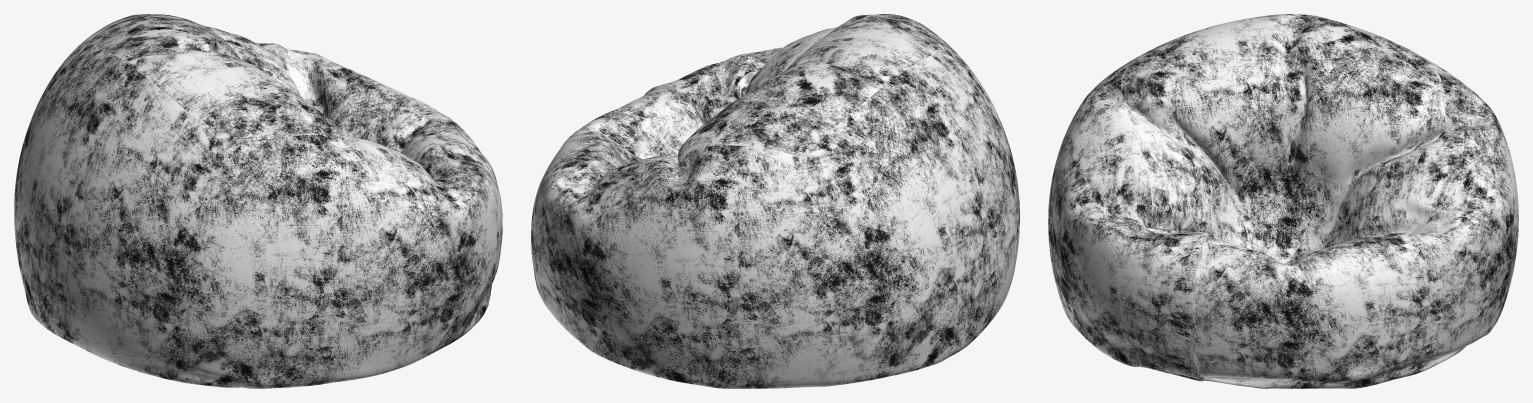
File: puff.glb
3 renders of one model, left to right at view 1: azimuth 30°, elevation 25°; view 2: azimuth 150°, elevation 25°; view 3: azimuth 270°, elevation 25°, orthographic. The views are drawn at different scales.
Visible parts, largest first — view 1: Bean_bag; view 2: Bean_bag; view 3: Bean_bag.
Boxes of the visible parts, <box> form: Bean_bag: <box>14,14,502,388</box>; Bean_bag: <box>531,14,1019,388</box>; Bean_bag: <box>1048,14,1518,388</box>.
Size of the model in its own units: 1.67 by 1 by 1.75.
1 material, 1 textured.
